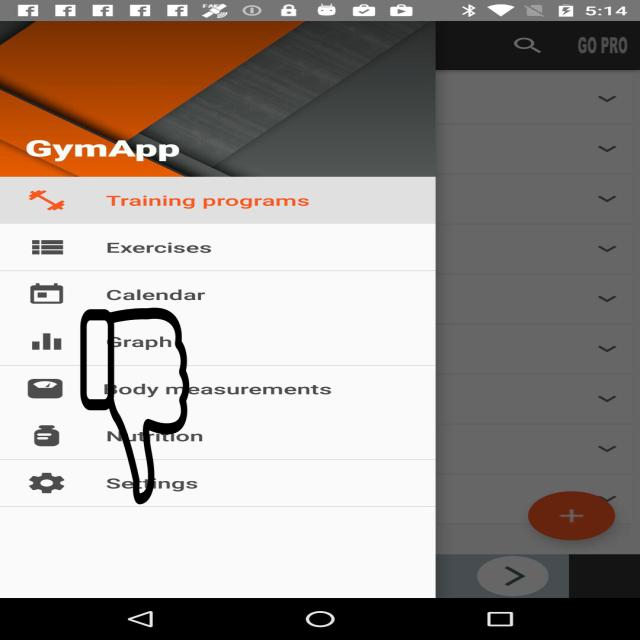obstruction: (79, 308, 191, 504)
